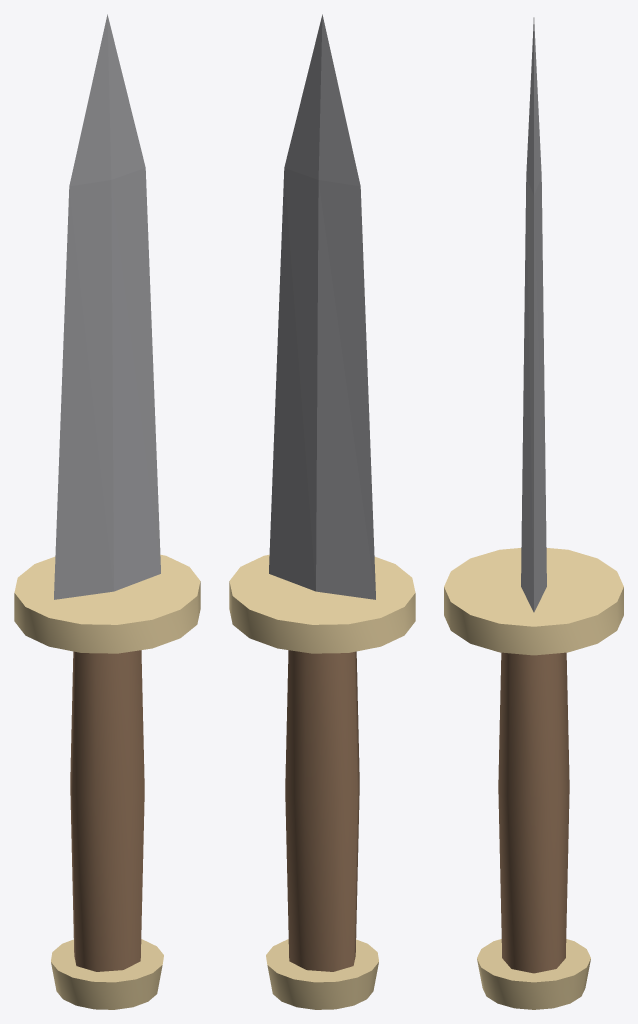
The model's file is asset.glb.
3 renders of one model, left to right at view 1: azimuth 30°, elevation 25°; view 2: azimuth 150°, elevation 25°; view 3: azimuth 270°, elevation 25°, orthographic.
Parts seen in each view (by area): view 1: blade, grip, guard, pommel; view 2: blade, grip, guard, pommel; view 3: grip, guard, blade, pommel.
Boxes of the visible parts, box(x1,y1,x2,y2) form: blade: box(54, 14, 160, 599); grip: box(70, 650, 144, 971); guard: box(14, 554, 200, 653); pommel: box(51, 939, 163, 1009); blade: box(269, 14, 375, 599); grip: box(285, 650, 359, 971); guard: box(229, 554, 415, 653); pommel: box(266, 939, 378, 1009); grip: box(498, 652, 569, 973); guard: box(444, 548, 623, 655); blade: box(521, 17, 546, 612); pommel: box(477, 939, 590, 1009).
Size of the model in its own units: 0.0566 by 0.3248 by 0.0538.
